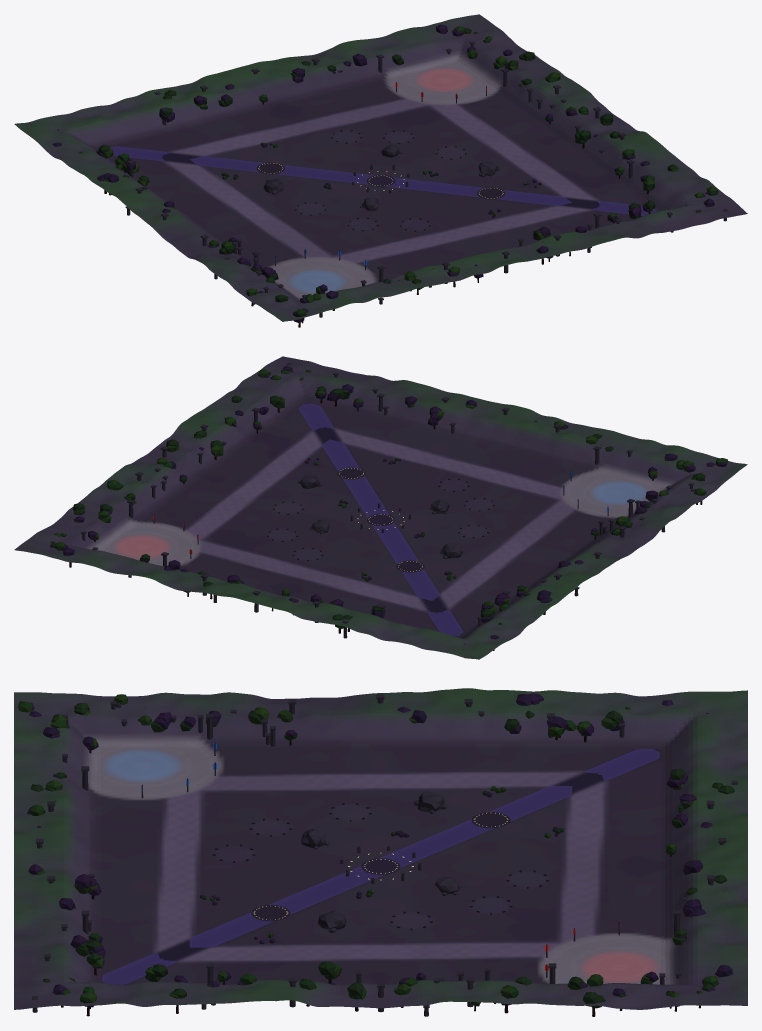
Rendered from map_ruinas_eclipse.glb.
3 renders of one model, top to bottom at view 1: azimuth 30°, elevation 25°; view 2: azimuth 150°, elevation 25°; view 3: azimuth 270°, elevation 25°, orthographic. The views are drawn at different scales.
Visible parts, largest first — view 1: ruinas_eclipse_terreno, ruinas_eclipse_decorado, ruinas_eclipse_agua; view 2: ruinas_eclipse_terreno, ruinas_eclipse_decorado, ruinas_eclipse_agua; view 3: ruinas_eclipse_terreno, ruinas_eclipse_decorado, ruinas_eclipse_agua.
Boxes of the visible parts, x1=… form: ruinas_eclipse_terreno: x1=14, y1=14, x2=747, y2=321; ruinas_eclipse_decorado: x1=52, y1=24, x2=728, y2=327; ruinas_eclipse_agua: x1=110, y1=146, x2=656, y2=215; ruinas_eclipse_terreno: x1=14, y1=356, x2=747, y2=659; ruinas_eclipse_decorado: x1=50, y1=362, x2=727, y2=658; ruinas_eclipse_agua: x1=298, y1=403, x2=463, y2=636; ruinas_eclipse_terreno: x1=14, y1=688, x2=747, y2=1009; ruinas_eclipse_decorado: x1=18, y1=693, x2=737, y2=1016; ruinas_eclipse_agua: x1=102, y1=749, x2=659, y2=984.
Size of the model in its own units: 120 by 6.28 by 120.
